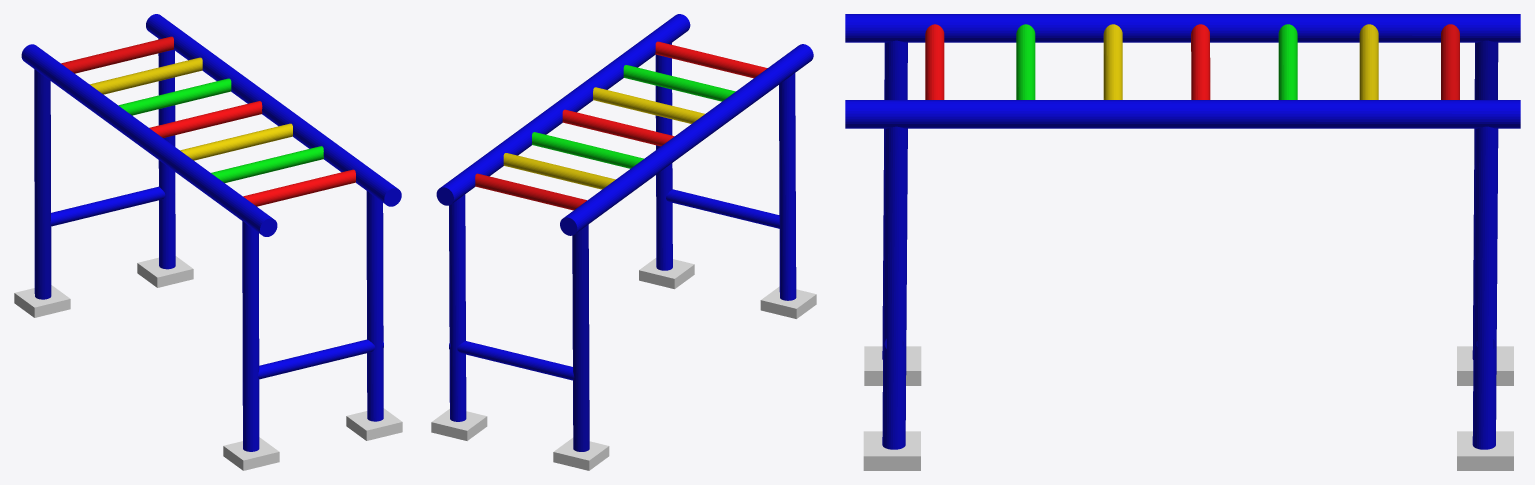
File: MonkeyBar.fbx
3 renders of one model, left to right at view 1: azimuth 30°, elevation 25°; view 2: azimuth 150°, elevation 25°; view 3: azimuth 270°, elevation 25°, orthographic. The views are drawn at different scales.
Parts seen in each view (by area): view 1: Bar2.005, Bar2, Bar2.004, Bar2.003, Bar2.002, Bar2.001, Bar2.013, Bar2.012, Bar2.010, Bar2.009, Bar2.011, Bar2.007 (+7 smaller); view 2: Bar2.005, Bar2, Bar2.003, Bar2.004, Bar2.001, Bar2.002, Bar2.012, Bar2.013, Bar2.009, Bar2.007, Bar2.006, Bar2.011 (+7 smaller); view 3: Bar2, Bar2.005, Bar2.002, Bar2.001, Cube, Cube.001, Bar2.003, Bar2.004, Bar2.010, Bar2.011, Bar2.006, Bar2.008 (+5 smaller).
Part boxes in pixels (bbox=[...]): Bar2.005: bbox=[21, 44, 277, 236]; Bar2: bbox=[146, 14, 401, 206]; Bar2.004: bbox=[34, 69, 51, 299]; Bar2.003: bbox=[242, 221, 259, 451]; Bar2.002: bbox=[366, 191, 383, 421]; Bar2.001: bbox=[158, 38, 175, 269]; Bar2.013: bbox=[258, 339, 383, 379]; Bar2.012: bbox=[50, 186, 175, 226]; Bar2.010: bbox=[118, 78, 231, 115]; Bar2.009: bbox=[149, 101, 262, 137]; Bar2.011: bbox=[90, 57, 202, 94]; Bar2.007: bbox=[211, 146, 323, 182]; Bar2.005: bbox=[560, 44, 813, 235]; Bar2: bbox=[436, 14, 690, 205]; Bar2.003: bbox=[779, 73, 796, 300]; Bar2.004: bbox=[572, 224, 589, 451]; Bar2.001: bbox=[449, 194, 466, 421]; Bar2.002: bbox=[655, 42, 672, 270]; Bar2.012: bbox=[449, 341, 574, 380]; Bar2.013: bbox=[656, 189, 779, 228]; Bar2.009: bbox=[562, 109, 674, 146]; Bar2.007: bbox=[623, 65, 735, 101]; Bar2.006: bbox=[655, 41, 767, 78]; Bar2.011: bbox=[503, 153, 615, 189]; Bar2: bbox=[845, 100, 1520, 128]; Bar2.005: bbox=[845, 14, 1520, 42]; Bar2.002: bbox=[882, 126, 907, 449]; Bar2.001: bbox=[1472, 126, 1498, 449]; Cube: bbox=[863, 431, 920, 470]; Cube.001: bbox=[1457, 431, 1513, 470]; Bar2.003: bbox=[882, 40, 907, 359]; Bar2.004: bbox=[1472, 40, 1498, 359]; Bar2.010: bbox=[1278, 24, 1297, 99]; Bar2.011: bbox=[1359, 24, 1378, 99]; Bar2.006: bbox=[925, 24, 944, 99]; Bar2.008: bbox=[1103, 24, 1122, 99].
Bounding box in the file's own units: 615 × 935 × 1597.
